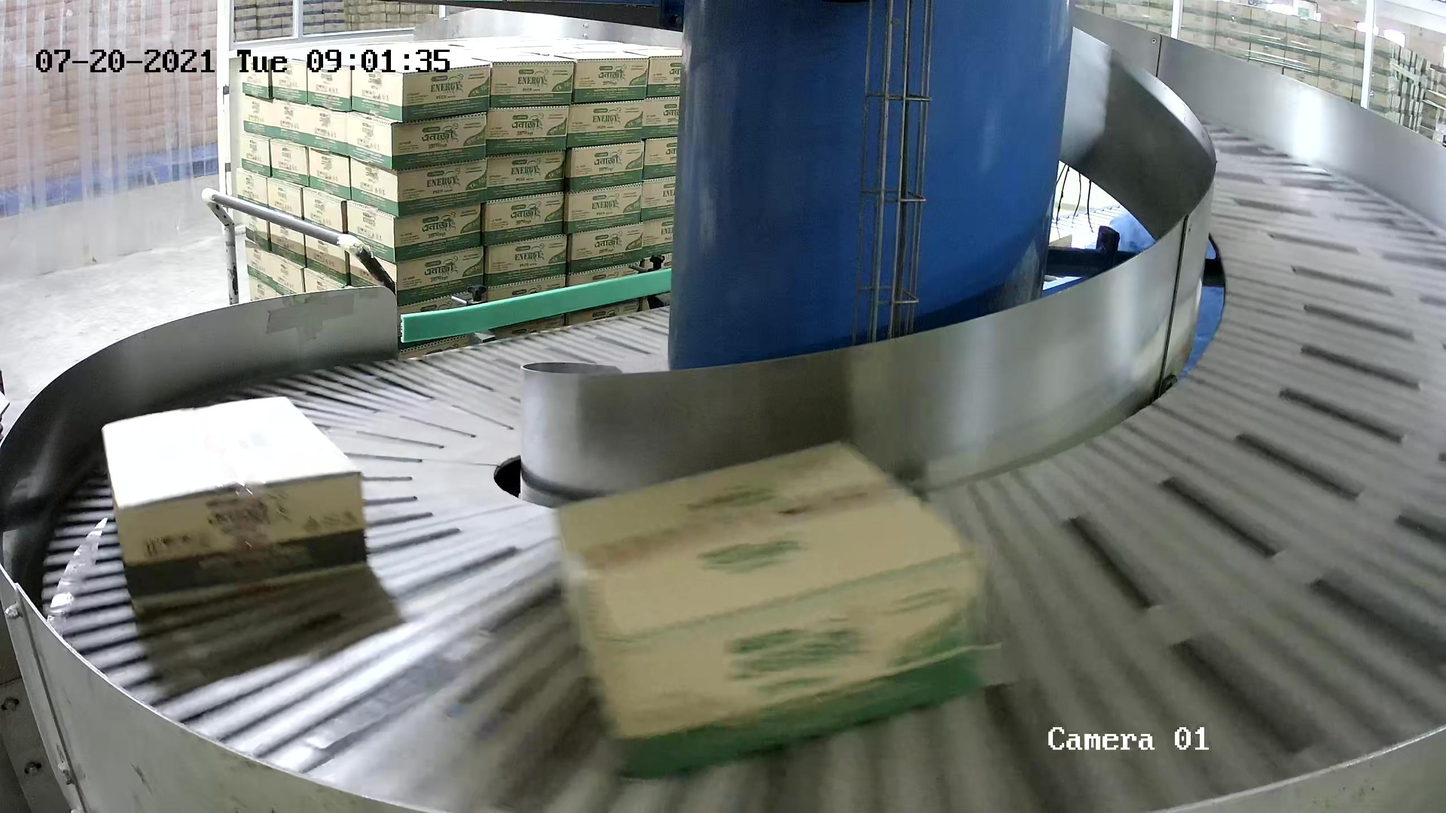Box: (553, 431, 999, 785), (99, 389, 373, 616)
